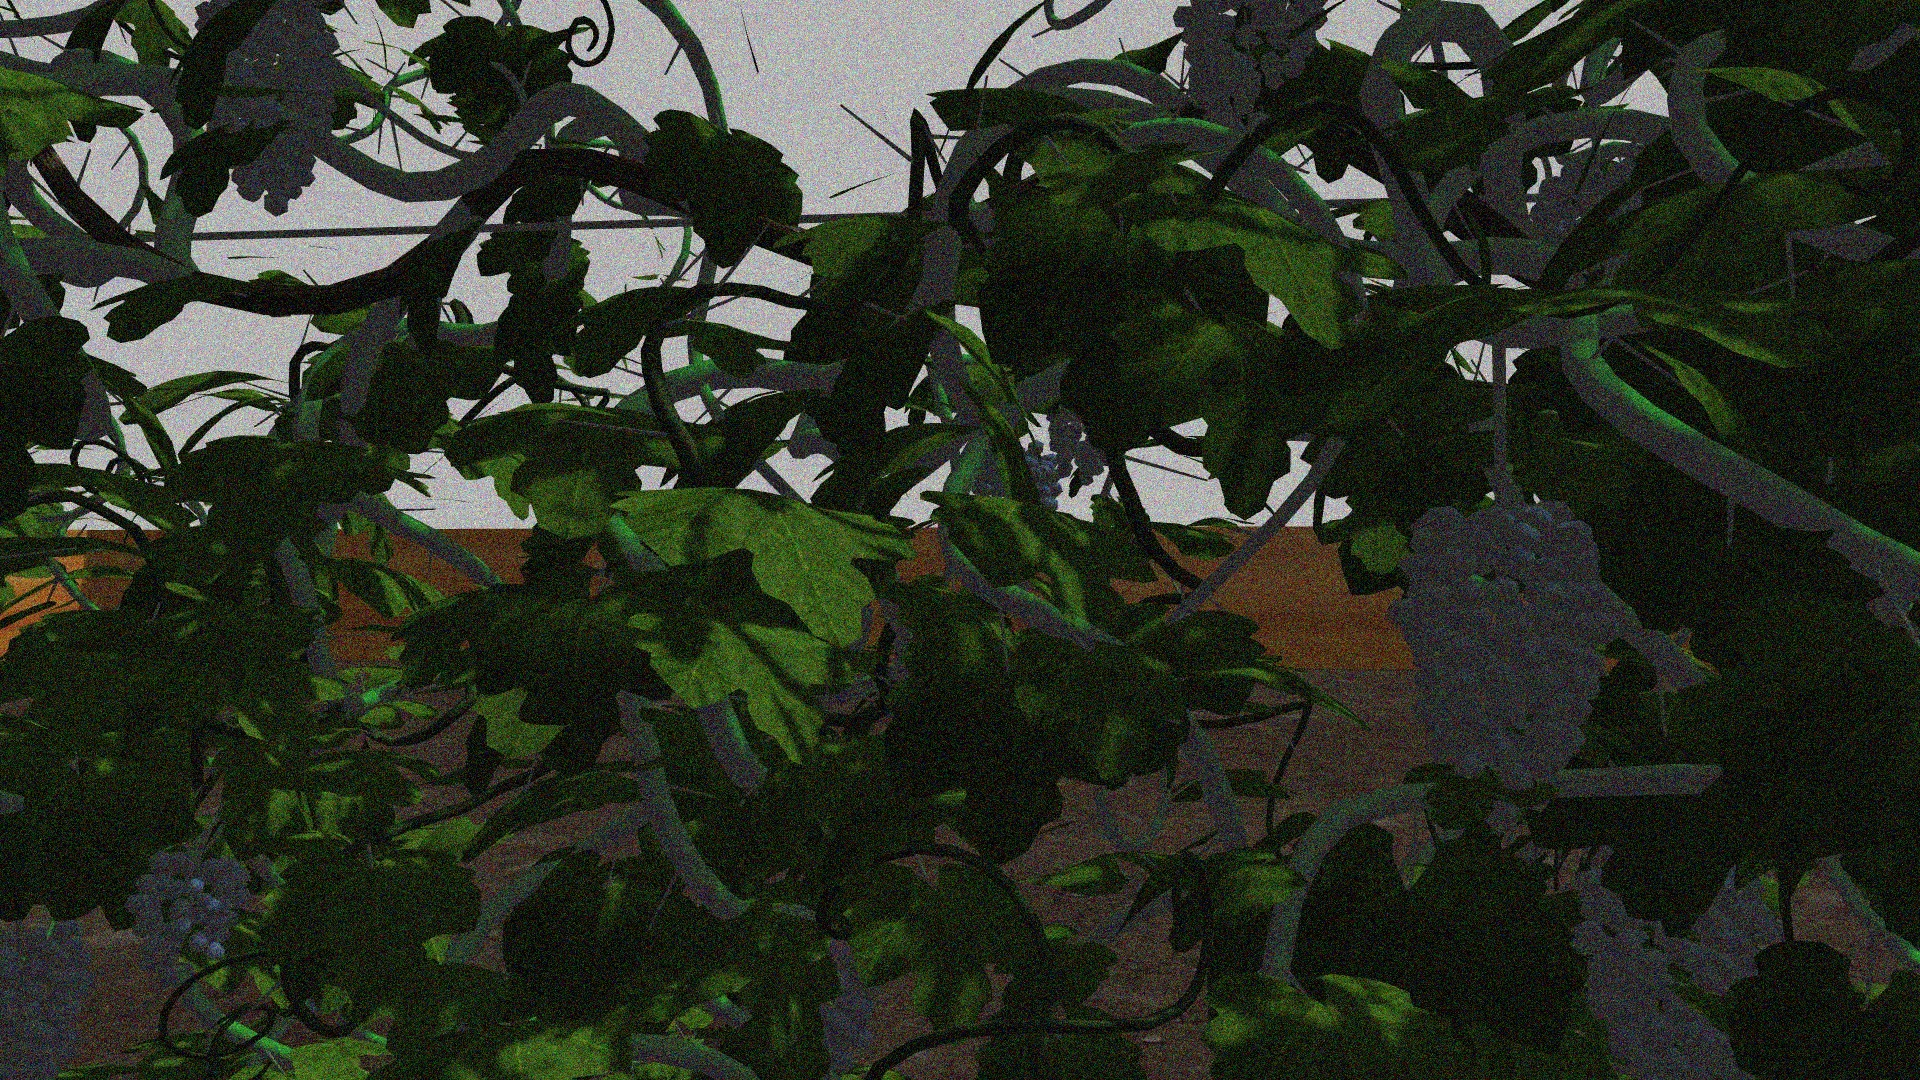grape: (1389, 498, 1615, 789), (1575, 851, 1780, 1069), (210, 11, 343, 214), (124, 839, 251, 989), (1172, 4, 1328, 123), (5, 919, 94, 1073)
